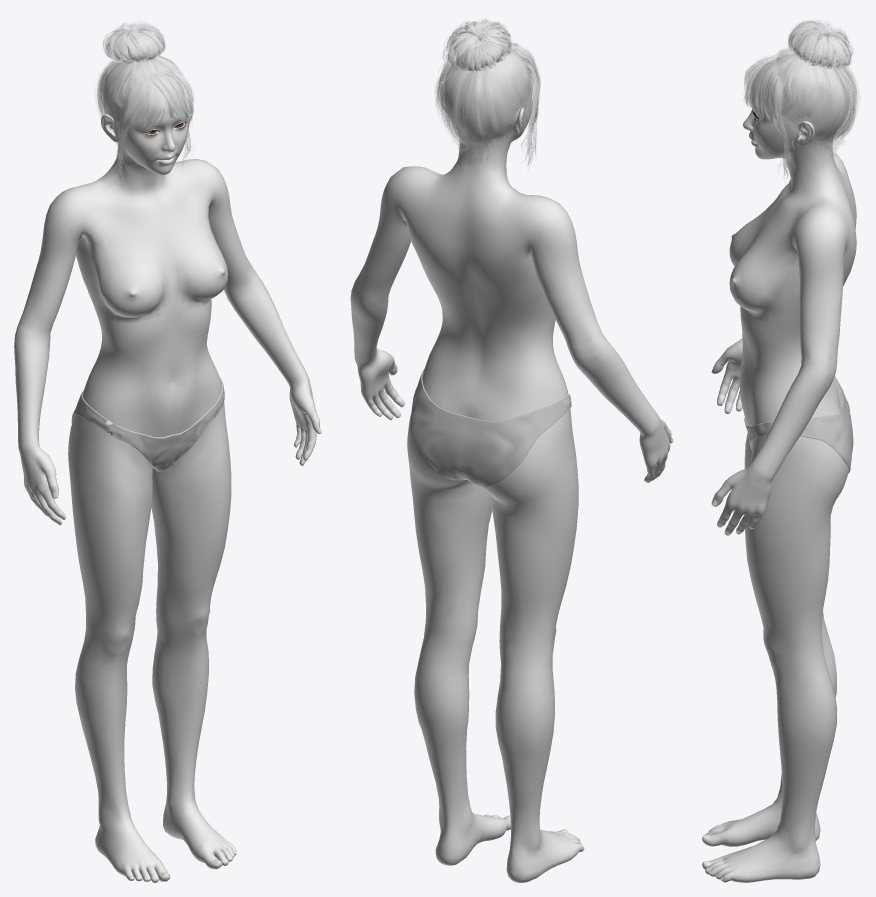
The model's file is body.glb.
3 renders of one model, left to right at view 1: azimuth 30°, elevation 25°; view 2: azimuth 150°, elevation 25°; view 3: azimuth 270°, elevation 25°, orthographic. The views are drawn at different scales.
Parts seen in each view (by area): view 1: Body, Hair_30629, Underwear_Bottoms; view 2: Body, Hair_30629, Underwear_Bottoms; view 3: Body, Hair_30629, Underwear_Bottoms.
Part boxes in pixels (x1,y1,x2,y2): Body: (14,56,321,882); Hair_30629: (95,21,193,191); Underwear_Bottoms: (71,376,224,471); Body: (350,44,673,882); Hair_30629: (434,19,540,165); Underwear_Bottoms: (410,369,571,487); Body: (702,53,856,882); Hair_30629: (742,20,859,178); Underwear_Bottoms: (744,376,853,472).
Bounding box in the file's own units: 0.6518 × 1.78 × 0.3065.
Materials: 12 (4 with a texture image).
